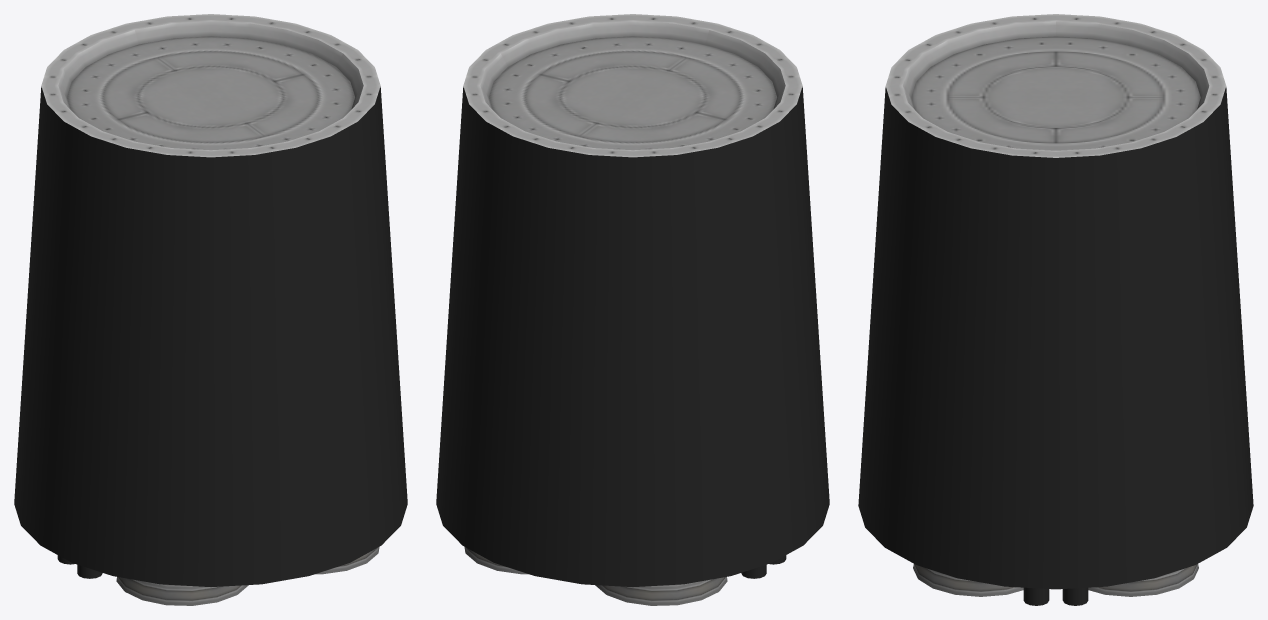
Rendered from CLV_1_Engine_1.obj.
3 renders of one model, left to right at view 1: azimuth 30°, elevation 25°; view 2: azimuth 150°, elevation 25°; view 3: azimuth 270°, elevation 25°, orthographic.
Visible parts, largest first — view 1: CLV_1_Engine_1, CLV_1_Engine_1_Nozzles; view 2: CLV_1_Engine_1, CLV_1_Engine_1_Nozzles; view 3: CLV_1_Engine_1, CLV_1_Engine_1_Nozzles.
Boxes of the visible parts, x1,y1,x2,y2 form: CLV_1_Engine_1: [14, 14, 407, 586]; CLV_1_Engine_1_Nozzles: [116, 547, 379, 605]; CLV_1_Engine_1: [436, 14, 829, 586]; CLV_1_Engine_1_Nozzles: [464, 547, 727, 605]; CLV_1_Engine_1: [858, 14, 1253, 605]; CLV_1_Engine_1_Nozzles: [913, 564, 1198, 596].
Size of the model in its own units: 1.45 by 1.82 by 1.45.
